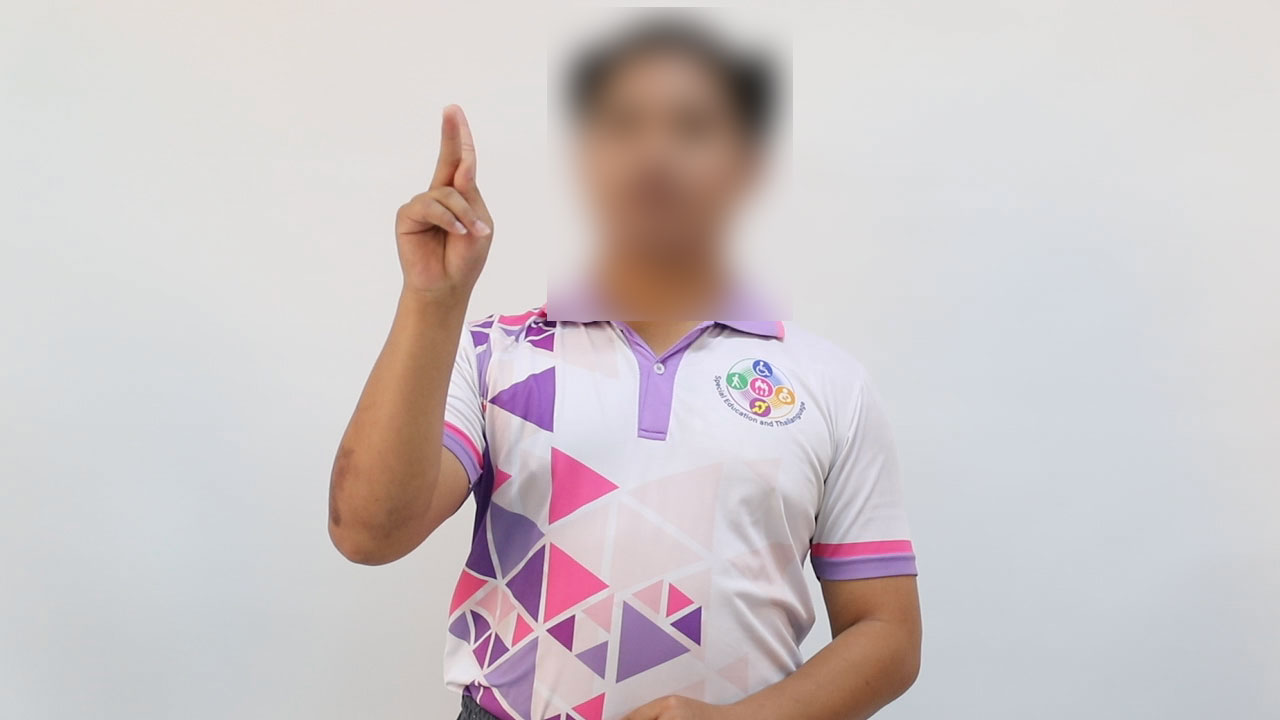ko: (383, 99, 497, 298)
